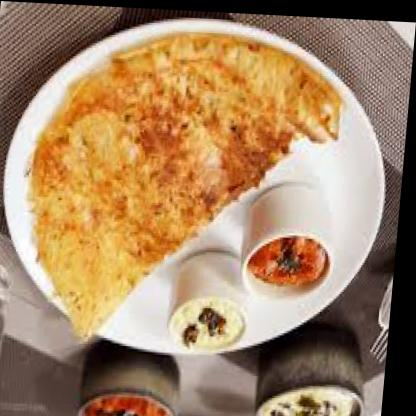dosa: (23, 26, 346, 349)
